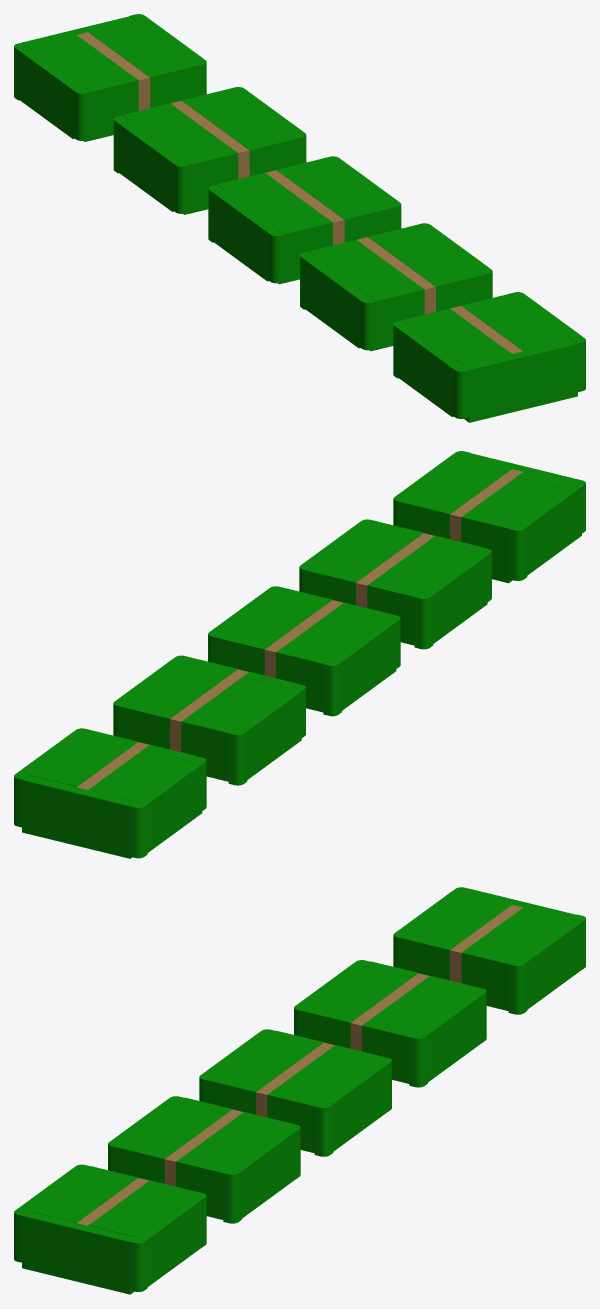
The model's file is Stage02.fbx.
The picture shows the model from 3 angles, top to bottom: view 1: azimuth 30°, elevation 25°; view 2: azimuth 150°, elevation 25°; view 3: azimuth 330°, elevation 25°; orthographic projection.
Parts seen in each view (by area): view 1: pasted__pasted__pasted__pasted__pasted__pasted__pasted__Tile (×8), pasted__pasted__pasted__pasted__pasted__pasted__Tile_Center3 (×6), pasted__pasted__pasted__pasted__pasted__pasted__pasted__past (×9), pasted__pasted__Tile_Center5, pasted__pasted__pasted__pasted__pasted__Tile_Center32 (×2), pasted__pasted__pasted__pasted__pasted__Tile_Center35, pasted__pasted__pasted__pasted__Tile_Center32, pasted__pasted__pasted__pasted__pasted__Tile_Corner_Foundati (×3), pasted__pasted__pasted__pasted__pasted__Tile_Center25 (×2), pasted__pasted__pasted__pasted__Tile_Corner_Foundation10 (×2), pasted__pasted__pasted__pasted__Tile_Center25 (×2), pasted__pasted__pasted__pasted__pasted__Tile_Center38 (+3 smaller); view 2: pasted__pasted__pasted__pasted__pasted__pasted__pasted__past (×11), pasted__pasted__pasted__pasted__pasted__pasted__pasted__Tile (×6), pasted__pasted__pasted__pasted__pasted__pasted__Tile_Center3 (×5), pasted__Tile_Center5, pasted__pasted__pasted__pasted__pasted__Tile_Center32 (×2), pasted__pasted__pasted__pasted__pasted__Tile_Center35, pasted__pasted__pasted__pasted__Tile_Center32, pasted__pasted__pasted__pasted__Tile_Center25 (×2), pasted__pasted__pasted__pasted__pasted__Tile_Center25 (×2), pasted__pasted__pasted__Tile_Corner_Foundation5 (×2), pasted__pasted__Tile_Corner_Foundation5 (×2), pasted__Tile_Corner_Foundation5 (+3 smaller); view 3: pasted__pasted__pasted__pasted__pasted__pasted__pasted__past (×9), pasted__pasted__pasted__pasted__pasted__pasted__pasted__Tile (×8), pasted__pasted__pasted__pasted__pasted__pasted__Tile_Center3 (×6), pasted__pasted__Tile_Center5, pasted__pasted__pasted__pasted__pasted__Tile_Center32 (×2), pasted__pasted__pasted__pasted__Tile_Center32, pasted__pasted__pasted__pasted__pasted__Tile_Center38, pasted__pasted__pasted__pasted__pasted__Tile_Center25 (×2), pasted__pasted__pasted__pasted__pasted__pasted__Tile_Corner_ (×2), pasted__pasted__pasted__pasted__pasted__Tile_Corner_Foundati (×2), pasted__pasted__pasted__pasted__Tile_Center25 (×2), pasted__pasted__pasted__Tile_Center25 (+4 smaller).
Boxes of the visible parts, box(x1,y1,x2,y2) form: pasted__pasted__pasted__pasted__pasted__pasted__pasted__Tile (×8): box(84, 18, 503, 359); pasted__pasted__pasted__pasted__pasted__pasted__Tile_Center3 (×6): box(29, 35, 476, 416); pasted__pasted__pasted__pasted__pasted__pasted__pasted__past (×9): box(184, 91, 581, 351); pasted__pasted__Tile_Center5: box(464, 339, 577, 422); pasted__pasted__pasted__pasted__pasted__Tile_Center32 (×2): box(188, 94, 562, 345); pasted__pasted__pasted__pasted__pasted__Tile_Center35: box(18, 47, 83, 138); pasted__pasted__pasted__pasted__Tile_Center32: box(89, 21, 190, 72); pasted__pasted__pasted__pasted__pasted__Tile_Corner_Foundati (×3): box(267, 229, 585, 392); pasted__pasted__pasted__pasted__pasted__Tile_Center25 (×2): box(265, 170, 435, 314); pasted__pasted__pasted__pasted__Tile_Corner_Foundation10 (×2): box(172, 160, 470, 418); pasted__pasted__pasted__pasted__Tile_Center25 (×2): box(170, 100, 522, 353); pasted__pasted__pasted__pasted__pasted__Tile_Center38: box(143, 61, 197, 107); pasted__pasted__pasted__pasted__pasted__pasted__pasted__past (×11): box(118, 455, 475, 781); pasted__pasted__pasted__pasted__pasted__pasted__pasted__Tile (×6): box(19, 477, 563, 774); pasted__pasted__pasted__pasted__pasted__pasted__Tile_Center3 (×5): box(88, 484, 581, 801); pasted__Tile_Center5: box(22, 775, 136, 858); pasted__pasted__pasted__pasted__pasted__Tile_Center32 (×2): box(130, 462, 504, 713); pasted__pasted__pasted__pasted__pasted__Tile_Center35: box(136, 761, 202, 852); pasted__pasted__pasted__pasted__Tile_Center32: box(30, 735, 131, 786); pasted__pasted__pasted__pasted__Tile_Center25 (×2): box(170, 469, 522, 751); pasted__pasted__pasted__pasted__pasted__Tile_Center25 (×2): box(264, 533, 434, 678); pasted__pasted__pasted__Tile_Corner_Foundation5 (×2): box(323, 592, 433, 716); pasted__pasted__Tile_Corner_Foundation5 (×2): box(228, 524, 527, 785); pasted__Tile_Corner_Foundation5: box(129, 801, 147, 858); pasted__pasted__pasted__pasted__pasted__pasted__pasted__past (×9): box(117, 992, 482, 1286); pasted__pasted__pasted__pasted__pasted__pasted__pasted__Tile (×8): box(37, 919, 581, 1219); pasted__pasted__pasted__pasted__pasted__pasted__Tile_Center3 (×6): box(18, 893, 511, 1210); pasted__pasted__Tile_Center5: box(22, 1211, 134, 1294); pasted__pasted__pasted__pasted__pasted__Tile_Center32 (×2): box(95, 980, 469, 1231); pasted__pasted__pasted__pasted__Tile_Center32: box(468, 908, 569, 959); pasted__pasted__pasted__pasted__pasted__Tile_Center38: box(461, 948, 514, 1010); pasted__pasted__pasted__pasted__pasted__Tile_Center25 (×2): box(164, 1042, 334, 1186); pasted__pasted__pasted__pasted__pasted__pasted__Tile_Corner_ (×2): box(223, 1101, 333, 1223); pasted__pasted__pasted__pasted__pasted__Tile_Corner_Foundati (×2): box(129, 1032, 427, 1291); pasted__pasted__pasted__pasted__Tile_Center25 (×2): box(76, 973, 429, 1225); pasted__pasted__pasted__Tile_Center25: box(450, 905, 522, 983).
Bounding box in the file's own units: 66.24 × 26.74 × 395.
